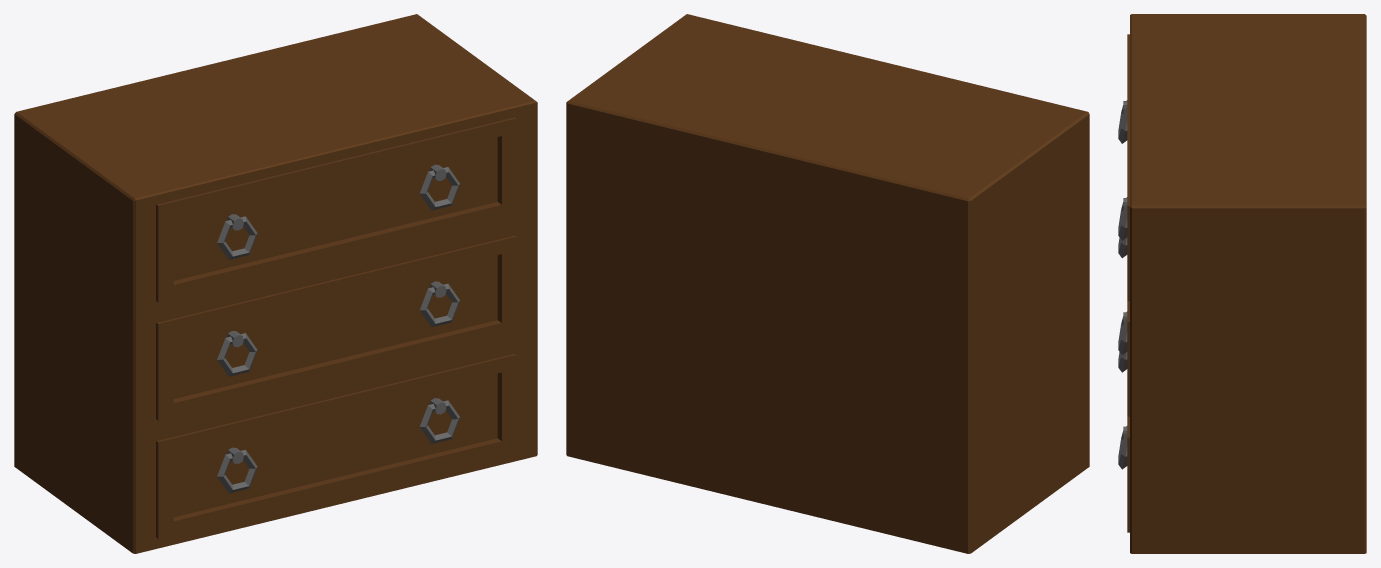
File: BachelorDresser1.glb
3 views of the same model, side by side, from view 1: azimuth 30°, elevation 25°; view 2: azimuth 150°, elevation 25°; view 3: azimuth 270°, elevation 25° (orthographic). The views are drawn at different scales.
Parts seen in each view (by area): view 1: BachelorDresser1, Drawer1_BachelorDresser1, Drawer3_BachelorDresser1, Drawer2_BachelorDresser1; view 2: BachelorDresser1; view 3: BachelorDresser1, Drawer1_BachelorDresser1, Drawer3_BachelorDresser1, Drawer2_BachelorDresser1.
Part boxes in pixels (box(x1,y1,x2,y2)): BachelorDresser1: box(14, 14, 537, 553); Drawer1_BachelorDresser1: box(156, 117, 516, 302); Drawer3_BachelorDresser1: box(156, 353, 516, 538); Drawer2_BachelorDresser1: box(156, 235, 516, 420); BachelorDresser1: box(566, 14, 1089, 553); BachelorDresser1: box(1130, 14, 1366, 553); Drawer1_BachelorDresser1: box(1118, 34, 1129, 300); Drawer3_BachelorDresser1: box(1118, 352, 1129, 532); Drawer2_BachelorDresser1: box(1118, 237, 1129, 416).
Bounding box in the file's own units: 0.9371 × 0.7851 × 0.5086.
